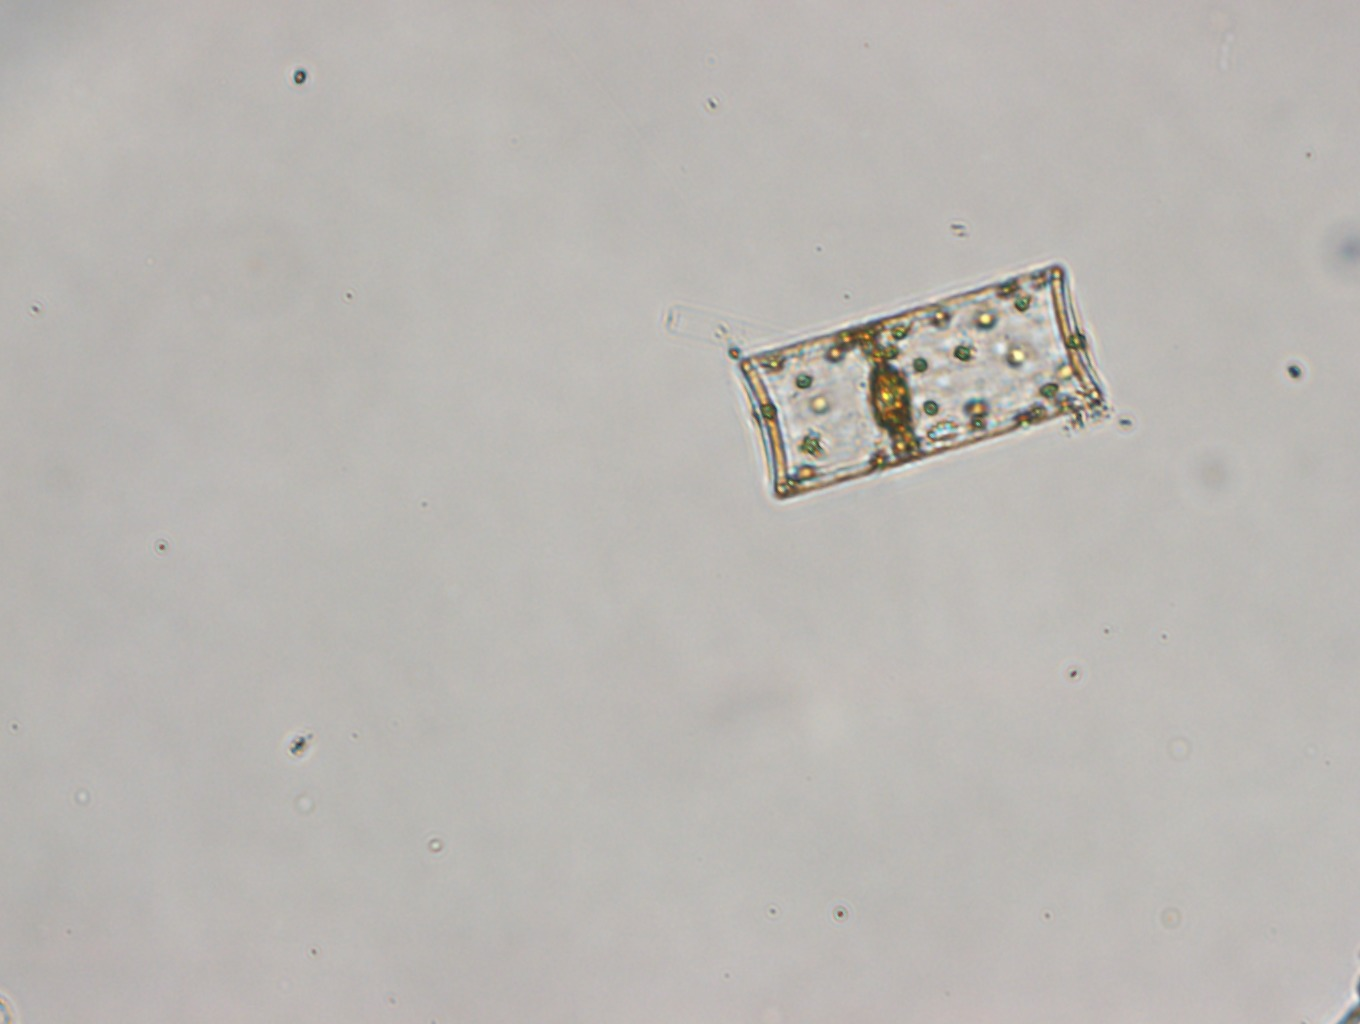guinardia flaccida: (738, 258, 1108, 501)
